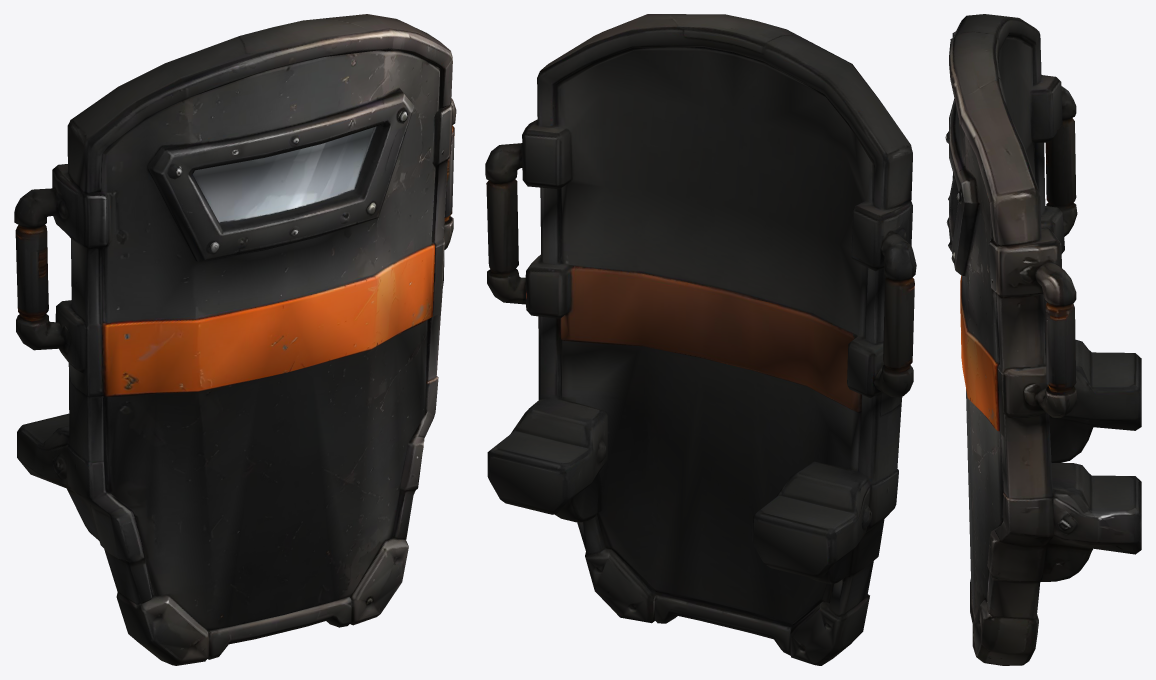
The model's file is tripo_convert_66fa77d0-010e-4f03-9d5a-914c4421df1e.fbx.
3 renders of one model, left to right at view 1: azimuth 30°, elevation 25°; view 2: azimuth 150°, elevation 25°; view 3: azimuth 270°, elevation 25°, orthographic. The views are drawn at different scales.
Parts seen in each view (by area): view 1: tripo_node_66fa77d0; view 2: tripo_node_66fa77d0; view 3: tripo_node_66fa77d0.
Part boxes in pixels (left/top/right/bottom): tripo_node_66fa77d0: left=14, top=14, right=456, bottom=665; tripo_node_66fa77d0: left=485, top=14, right=916, bottom=665; tripo_node_66fa77d0: left=945, top=14, right=1141, bottom=665.
Bounding box in the file's own units: 0.7292 × 0.978 × 0.3043.
Materials: 1 (1 with a texture image).
